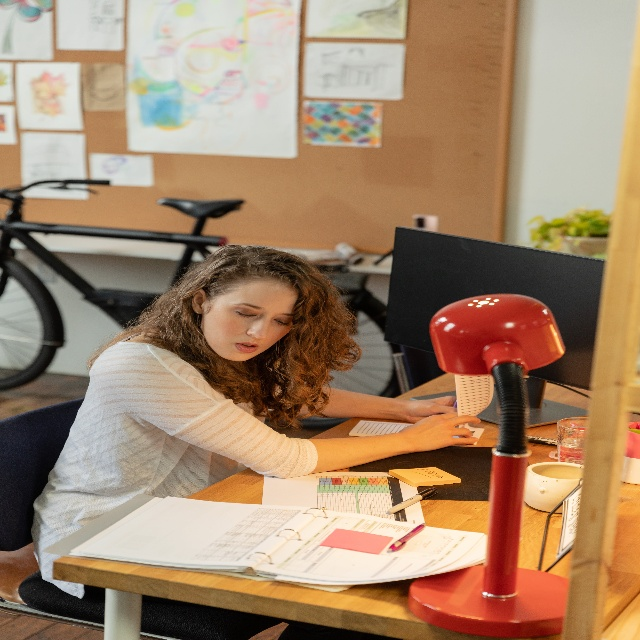Sin_guantes: (410, 409, 481, 457), (410, 391, 459, 418)
